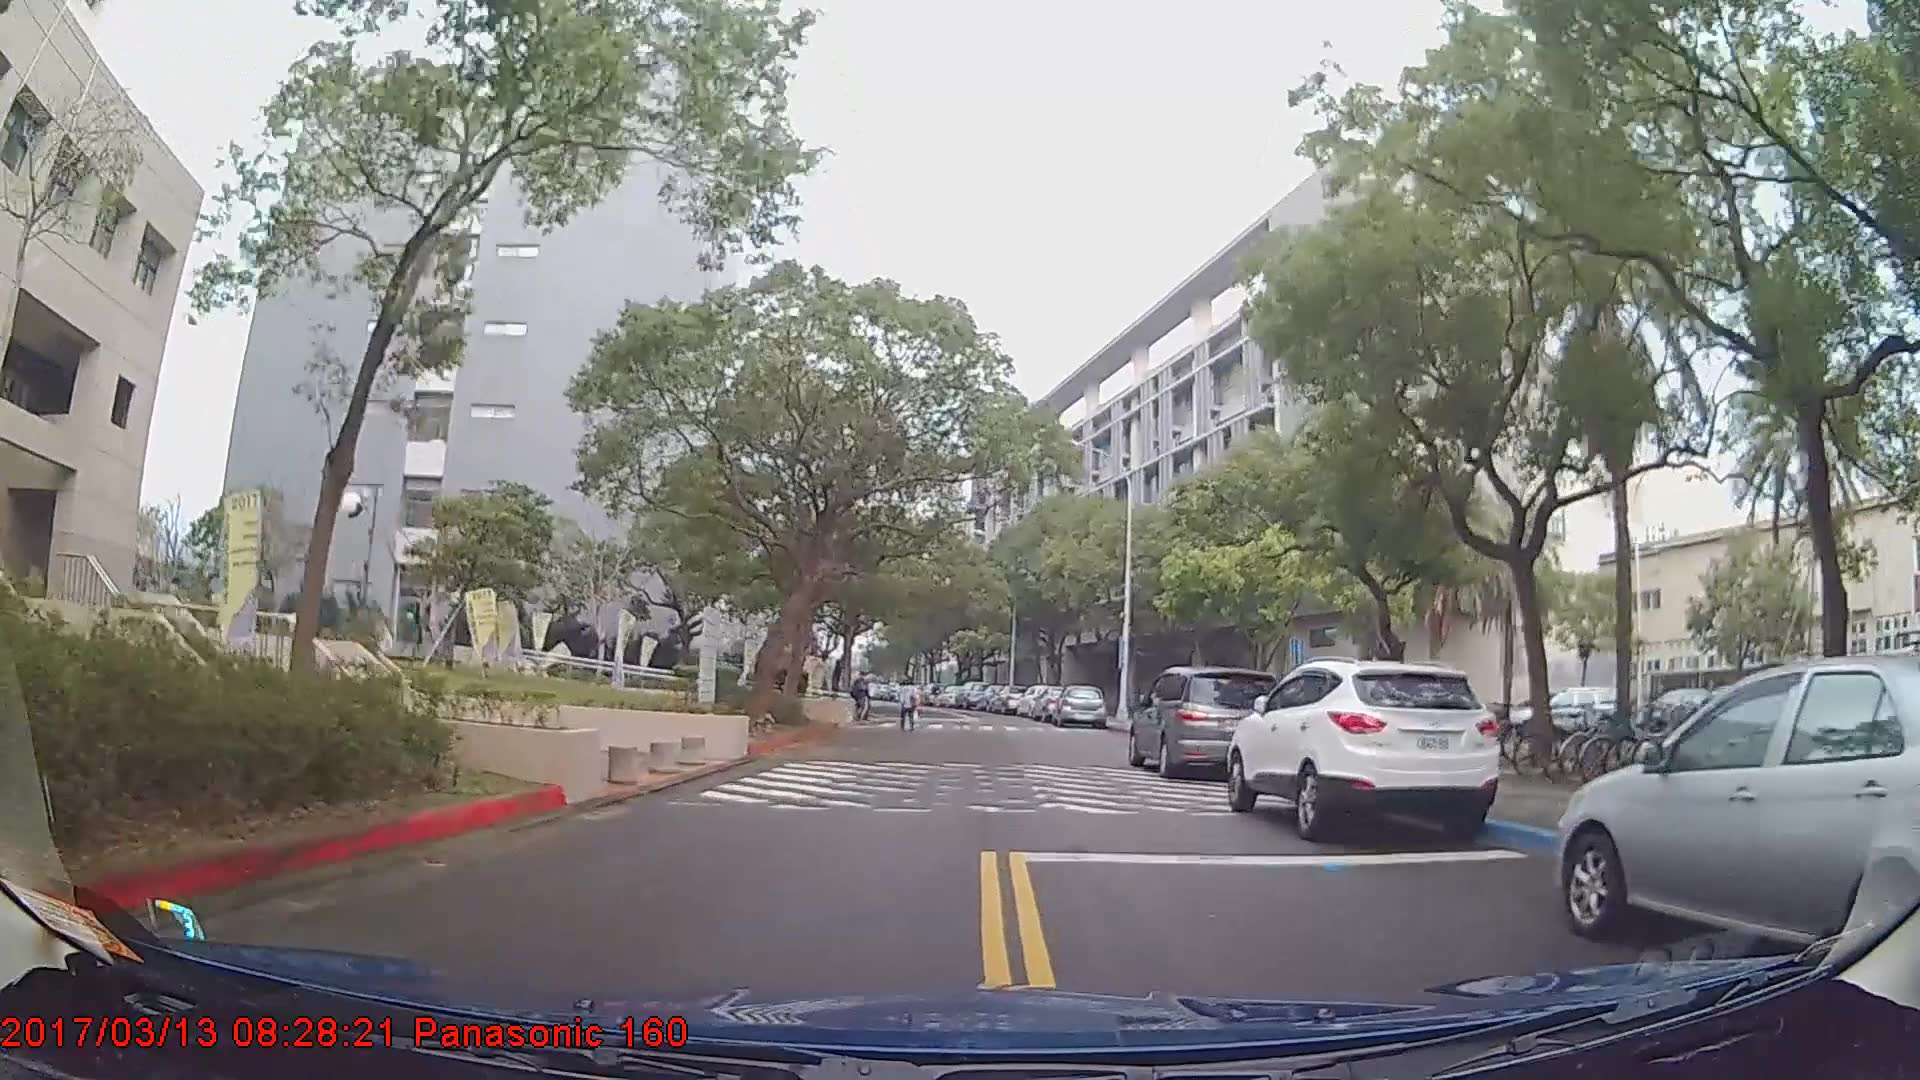pedestrian: (892, 679, 919, 734), (853, 673, 874, 724)
vehicle: (1557, 652, 1920, 971), (1227, 657, 1503, 844), (1127, 665, 1288, 779), (1491, 684, 1623, 745), (1055, 680, 1107, 730), (952, 679, 988, 709)
